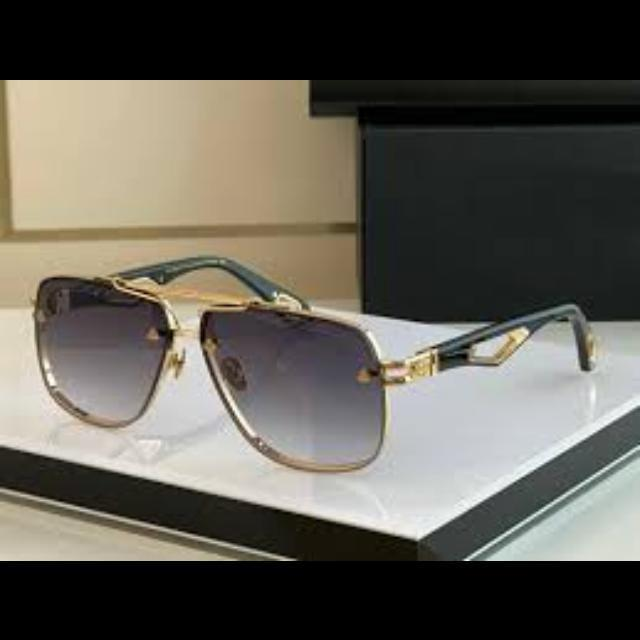sunglasses: (31, 254, 601, 472)
